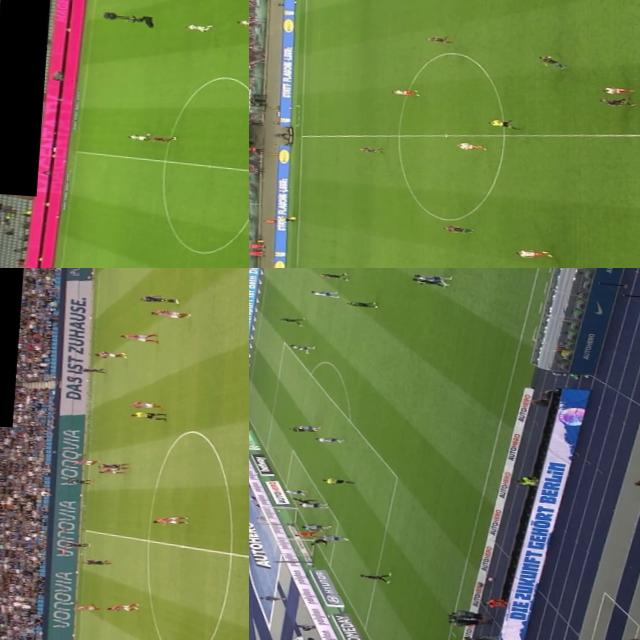player: (528, 54, 572, 68), (150, 512, 188, 528), (136, 292, 182, 305), (512, 246, 554, 260), (448, 141, 492, 154), (116, 331, 160, 343), (596, 95, 634, 108), (148, 308, 192, 319), (355, 572, 395, 582), (105, 600, 138, 612), (318, 532, 350, 544), (355, 143, 384, 156), (312, 433, 343, 445), (92, 350, 128, 360), (128, 400, 164, 410), (64, 475, 94, 487), (392, 87, 421, 99), (96, 464, 125, 476), (70, 602, 104, 612), (178, 24, 214, 33), (142, 134, 174, 144), (80, 557, 112, 567), (421, 36, 452, 46), (288, 342, 316, 353), (96, 461, 130, 470), (308, 290, 338, 300), (77, 365, 106, 375), (342, 300, 378, 308), (120, 132, 148, 142), (440, 222, 468, 232), (300, 520, 328, 530), (276, 315, 304, 325), (413, 276, 447, 284), (602, 85, 632, 94), (64, 540, 90, 550), (294, 529, 319, 539), (318, 272, 347, 280), (70, 458, 98, 466), (297, 501, 325, 509), (287, 426, 315, 434), (228, 18, 249, 28), (308, 536, 329, 546), (280, 488, 306, 496), (408, 278, 440, 284), (289, 497, 315, 504), (293, 425, 321, 430)
